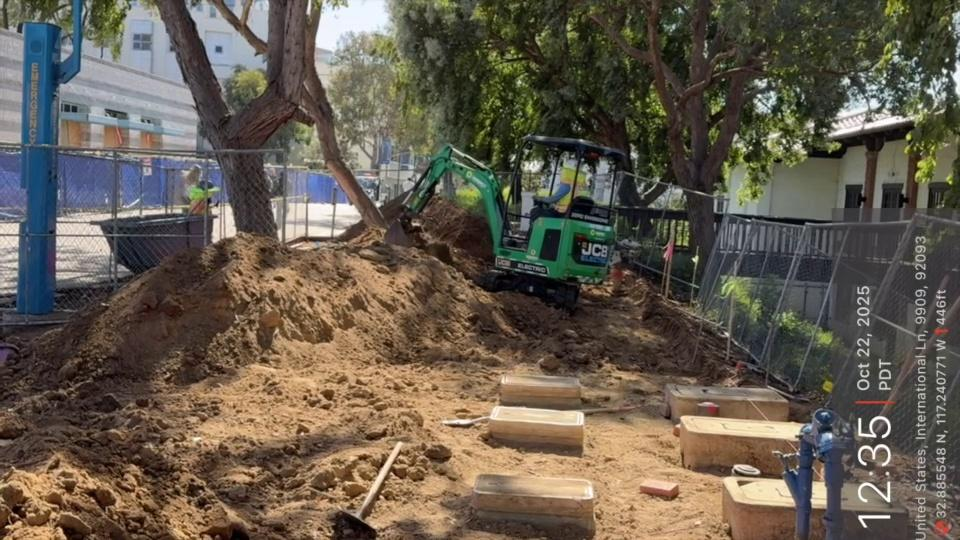Exacavator: (380, 132, 631, 312)
